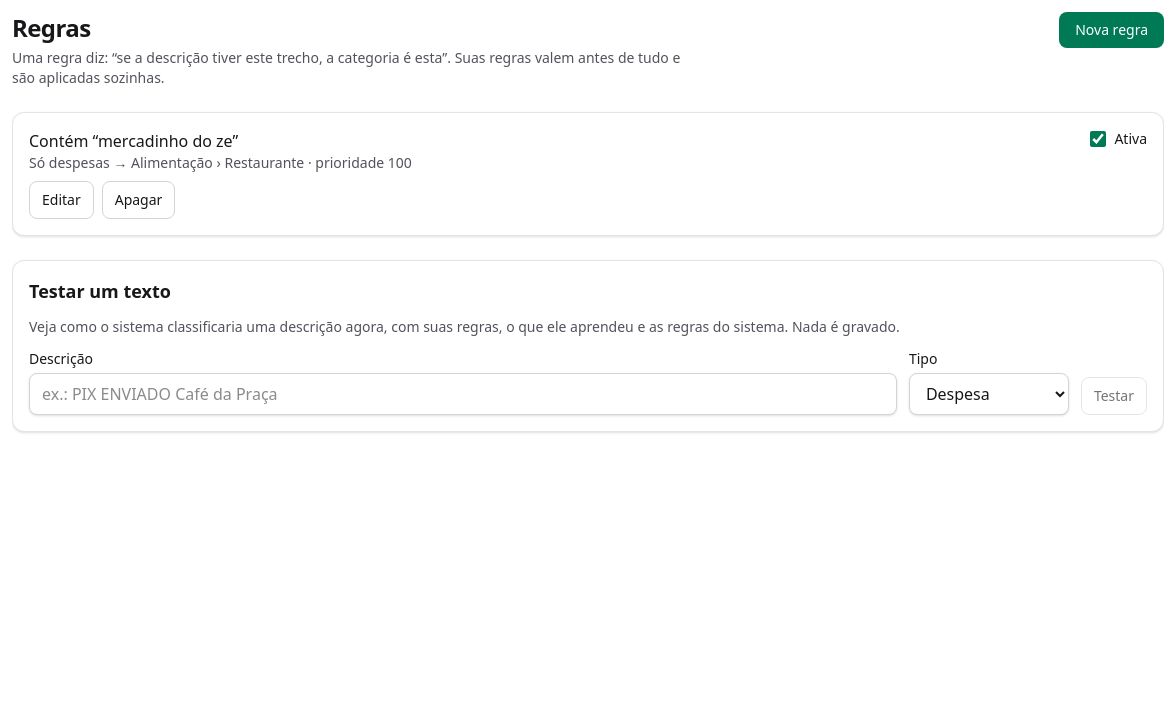
Scenario: RulesView › editar preenche o formulário e limpa com nulo o que foi esvaziado
Later steps or results of the test are not shown.
What coordinates should you click on to do the following:
click the button with aria-label "Editar a regra mercadinho do ze"
I would click on:
 (61, 200)
Its box is [29,181,94,219].
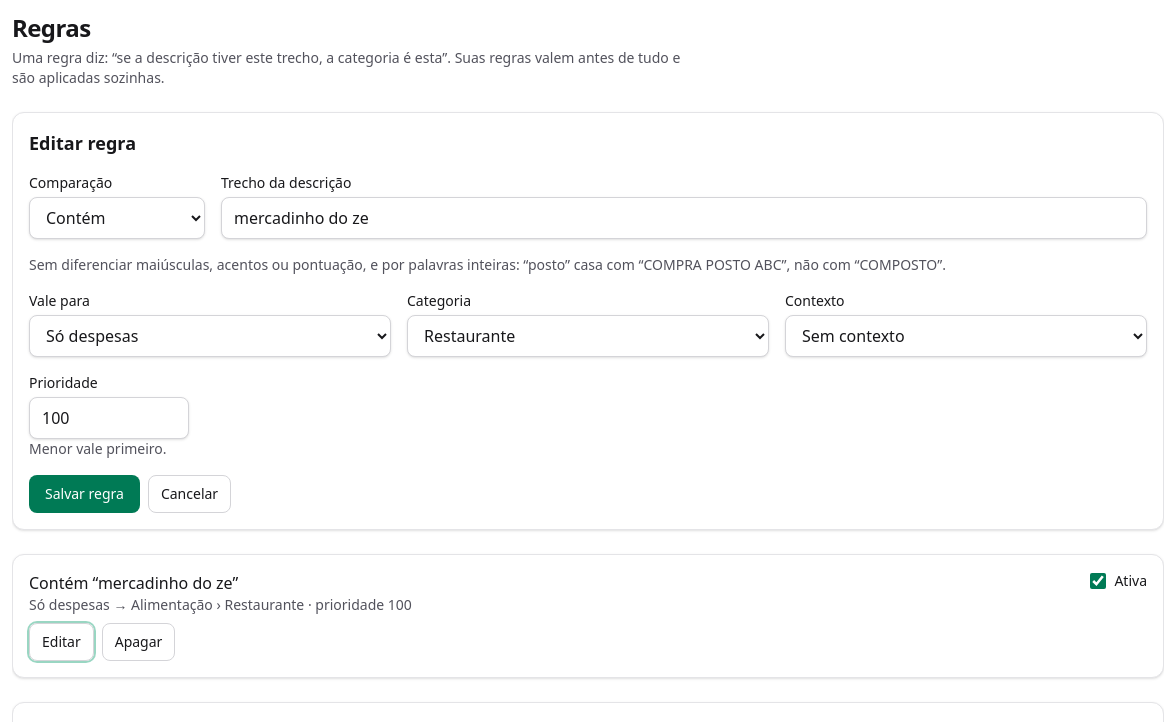
Expected: the field labelled "Trecho da descrição" holds "mercadinho do ze", [221,197,1147,239]
Expected: the dropdown labelled "Vale para" shows "Só despesas", [29,315,391,357]
